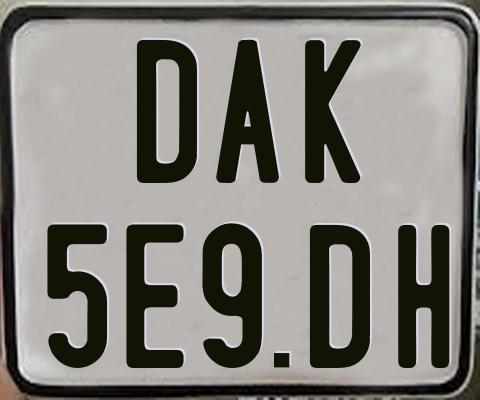5: (46, 224, 111, 370)
9: (200, 220, 260, 366)
A: (215, 39, 281, 186)
D: (137, 40, 203, 189), (309, 222, 370, 371)
E: (123, 222, 182, 366)
H: (396, 222, 447, 366)
K: (305, 37, 367, 186)
